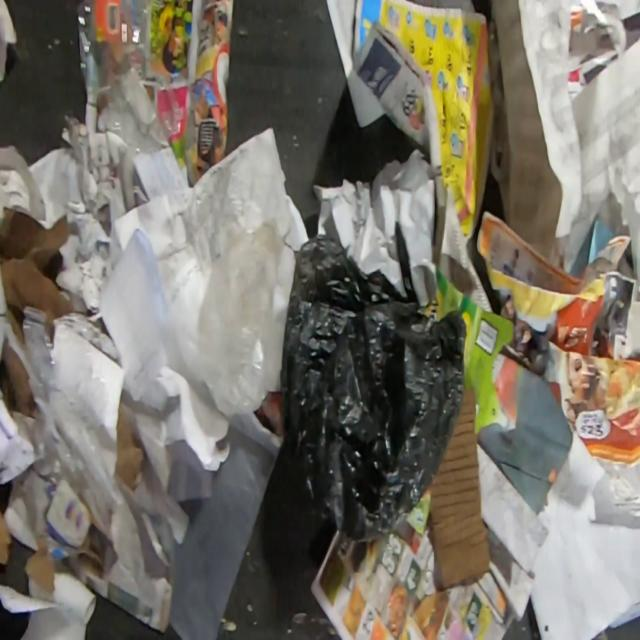cardboard: (410, 255, 514, 446), (0, 460, 105, 596), (426, 386, 490, 596), (116, 399, 145, 491)
soft_plastic: (280, 232, 467, 543), (21, 304, 163, 612), (76, 0, 183, 210), (194, 217, 286, 415)
